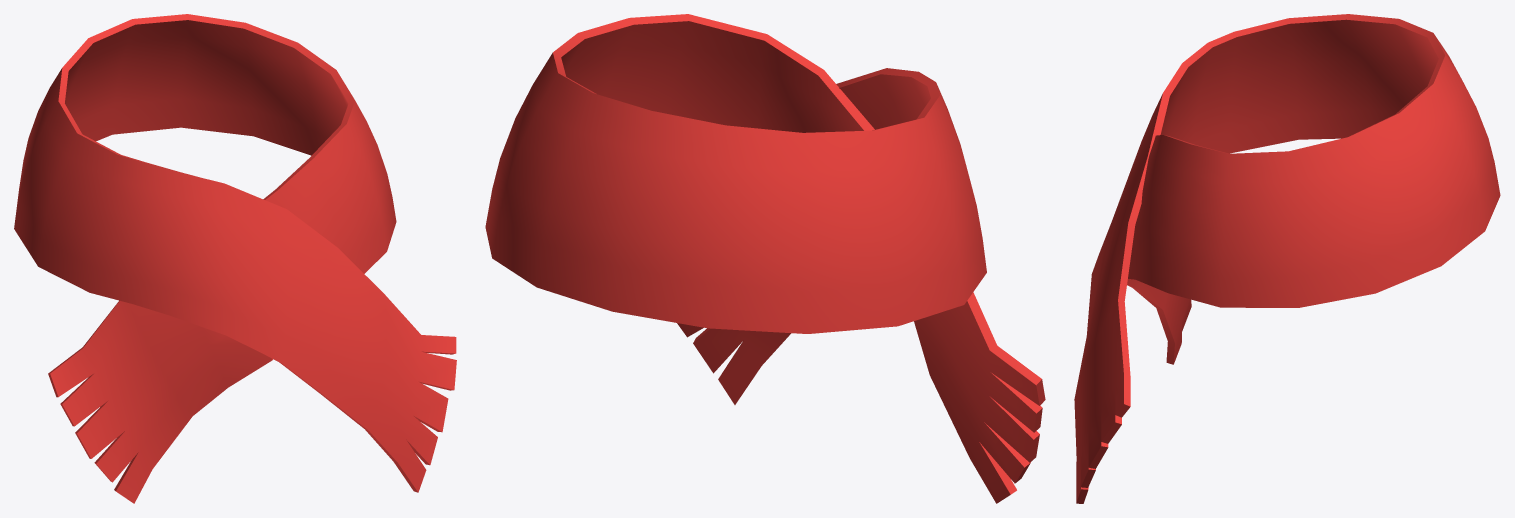
Rendered from scarf.glb.
The picture shows the model from 3 angles, left to right: view 1: azimuth 30°, elevation 25°; view 2: azimuth 150°, elevation 25°; view 3: azimuth 270°, elevation 25°; orthographic projection. The views are drawn at different scales.
Visible parts, largest first — view 1: Circle.1789; view 2: Circle.1789; view 3: Circle.1789.
Boxes of the visible parts, box(x1,y1,x2,y2) form: Circle.1789: box(14, 14, 456, 503); Circle.1789: box(485, 14, 1045, 503); Circle.1789: box(1074, 14, 1500, 503).
Bounding box in the file's own units: 1.89 × 1.88 × 1.85.
1 material, 1 textured.
